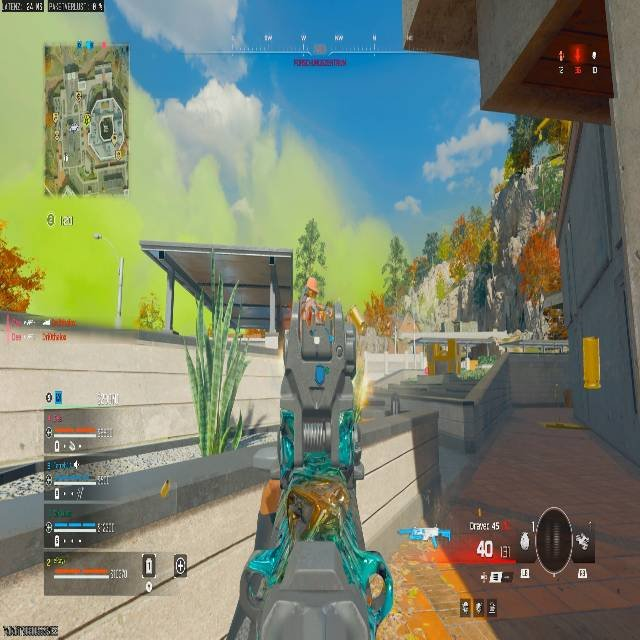player: (301, 275, 324, 326), (336, 345, 343, 357)
